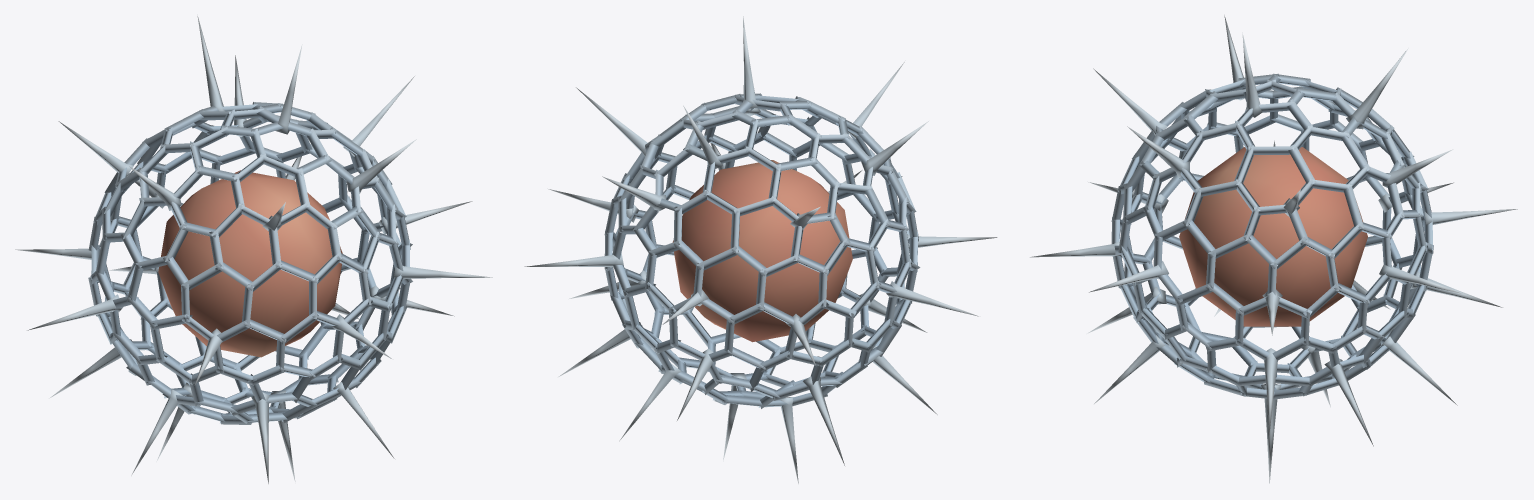
File: Echidnina.fbx
The picture shows the model from 3 angles, left to right: view 1: azimuth 30°, elevation 25°; view 2: azimuth 150°, elevation 25°; view 3: azimuth 270°, elevation 25°; orthographic projection. The views are drawn at different scales.
Visible parts, largest first — view 1: Echidnina; view 2: Echidnina; view 3: Echidnina.
Boxes of the visible parts, box(x1,y1,x2,y2) form: Echidnina: box(15, 16, 492, 483); Echidnina: box(524, 16, 997, 483); Echidnina: box(1030, 15, 1517, 483).
Size of the model in its own units: 1.63 by 1.58 by 1.56.
